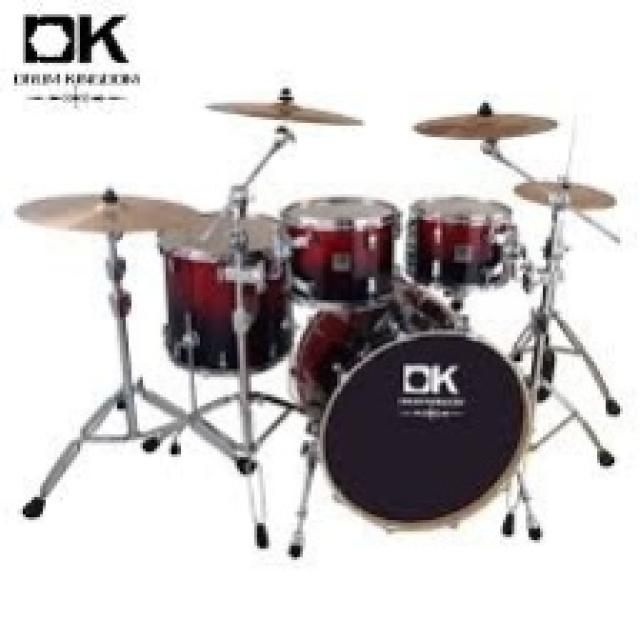drums: (13, 78, 625, 547)
